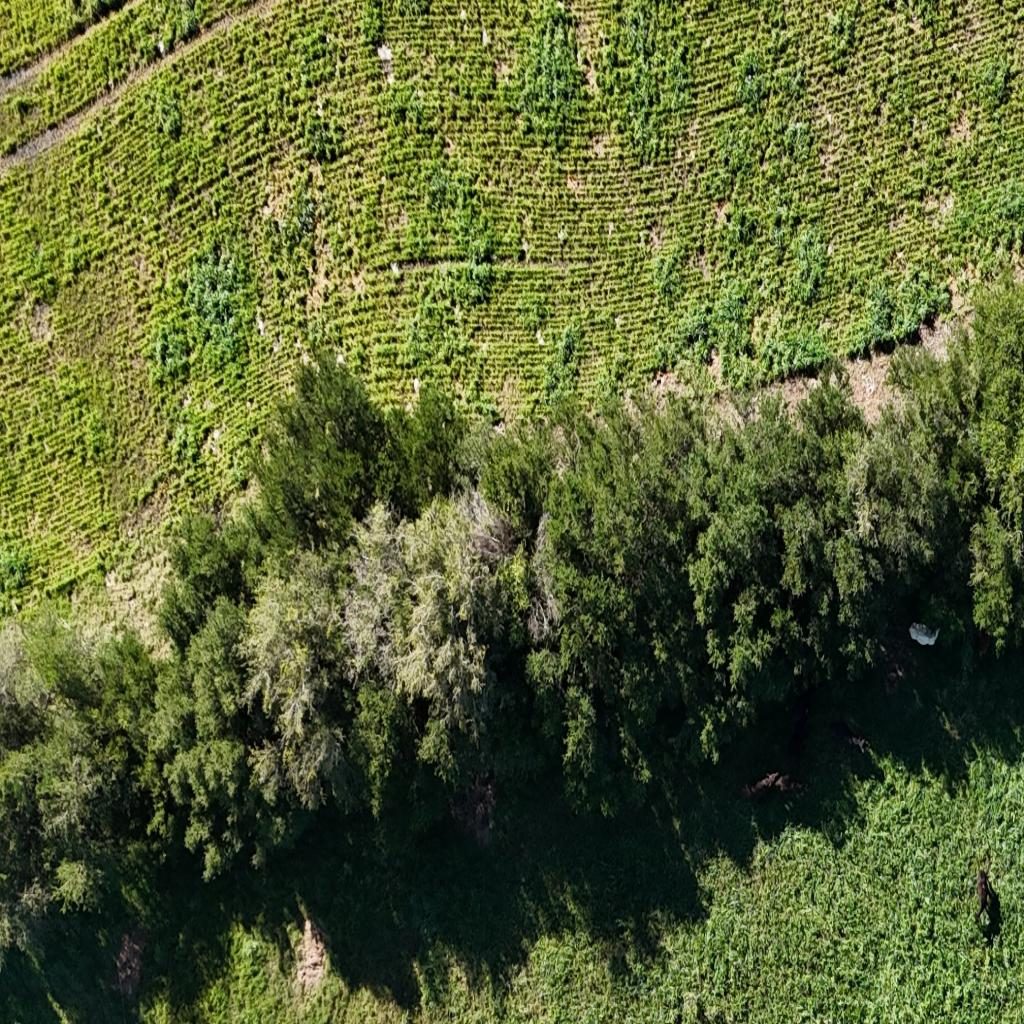cow: (974, 865, 1002, 942)
